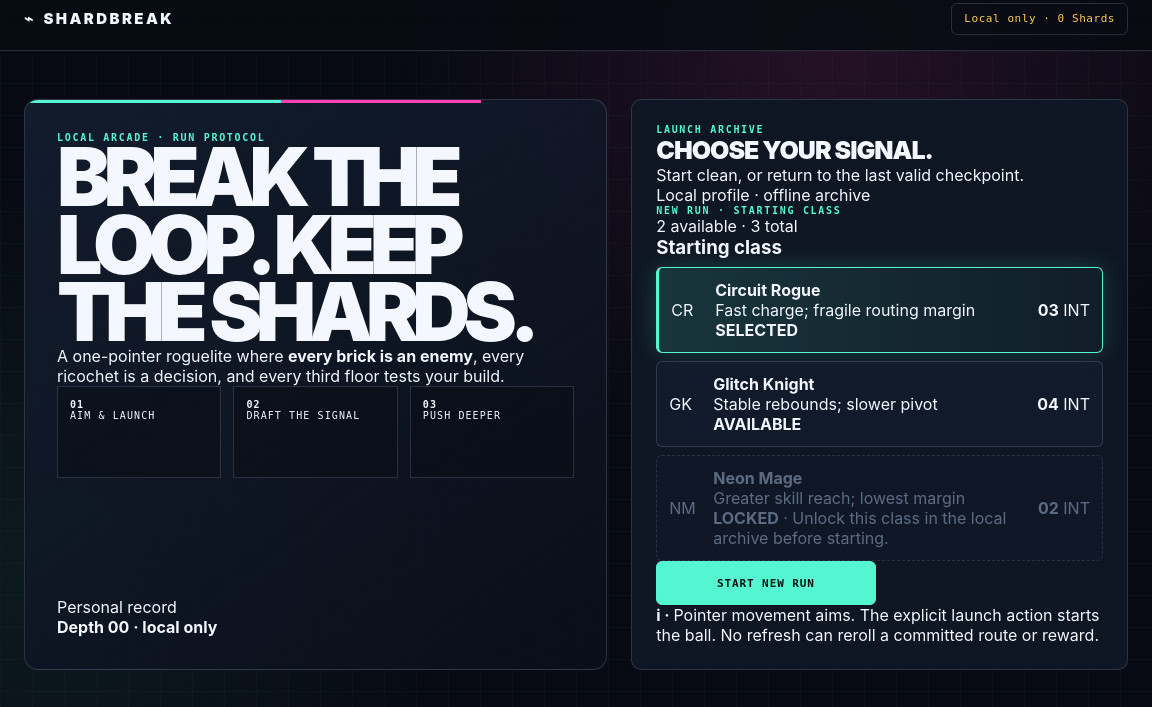
Test: App combat composition › renders CombatScreen with arena controls for a committed battle room
Check: the heading "Choose your signal." is shown, box top-left (656, 135), bottom-right (933, 165)
Click the button "Start new run".
click(766, 583)  # box top-left (656, 561), bottom-right (876, 605)
(page scrolled)
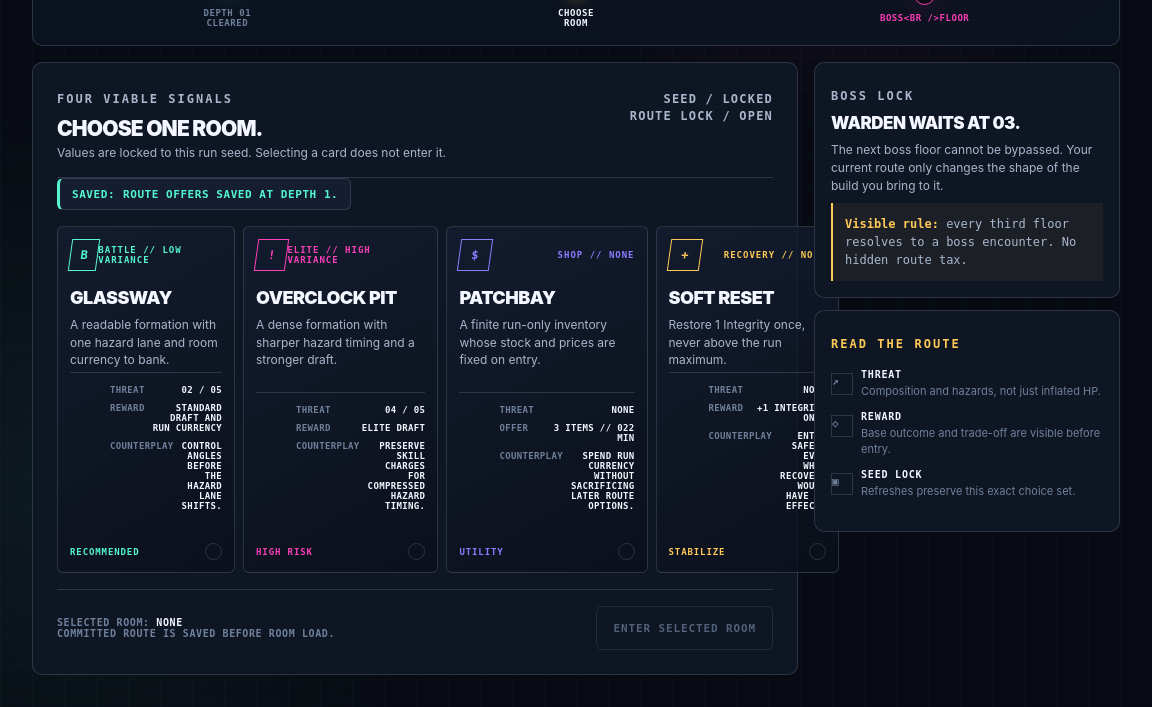
Click the radio button with aria-label "battle // Glassway".
click(146, 400)  # box top-left (57, 226), bottom-right (235, 573)
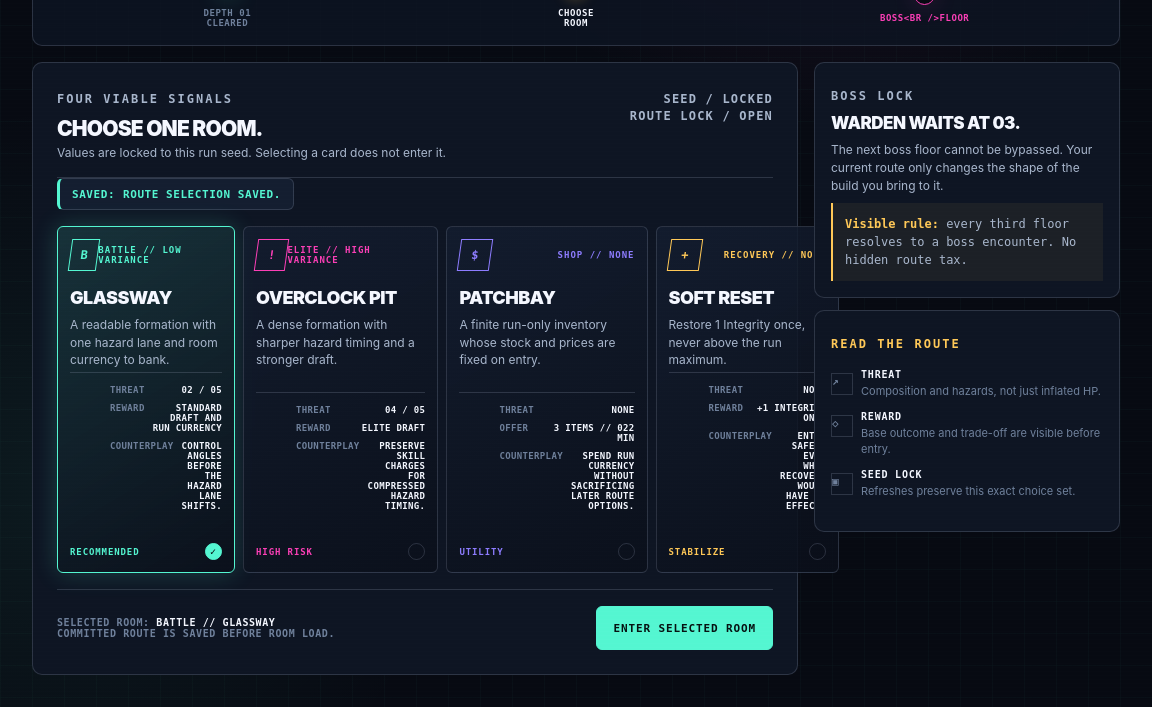
Click the button "Enter selected room".
click(685, 628)  # box top-left (596, 606), bottom-right (773, 650)
(page scrolled)
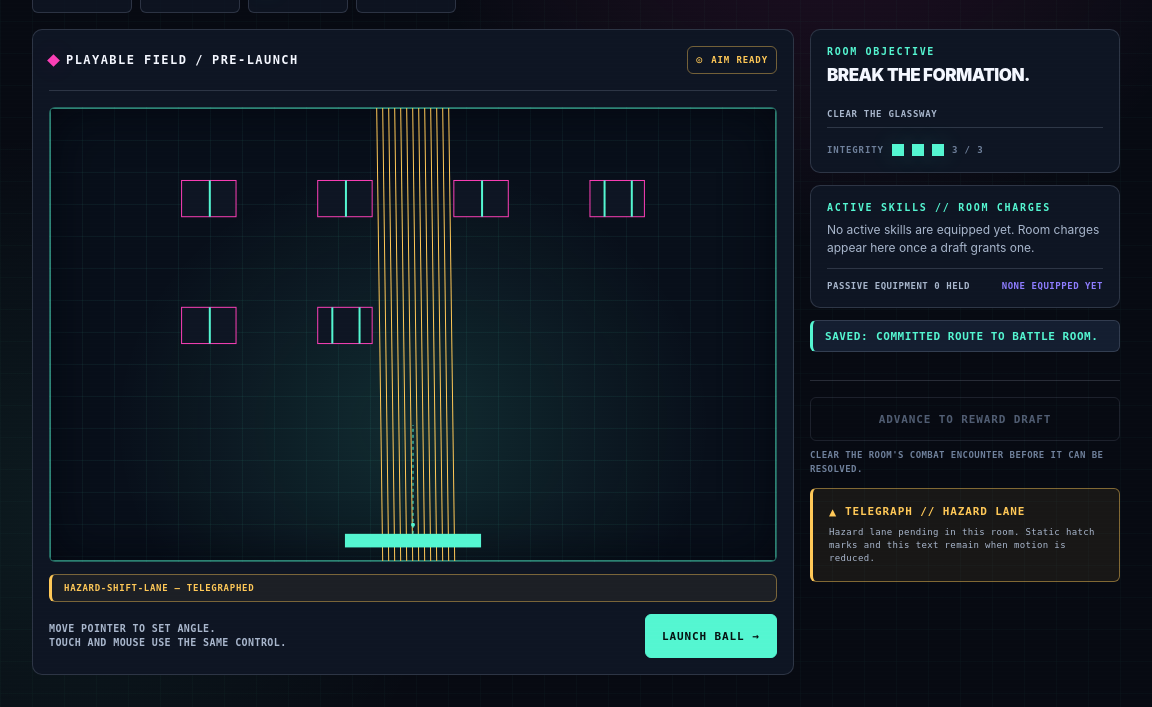
Check: the element named "Combat arena" is shown
Check: the button "Launch ball →" is enabled, box top-left (645, 614), bottom-right (777, 658)
Check: the button "Advance to reward draft" is disabled, box top-left (810, 397), bottom-right (1120, 441)
